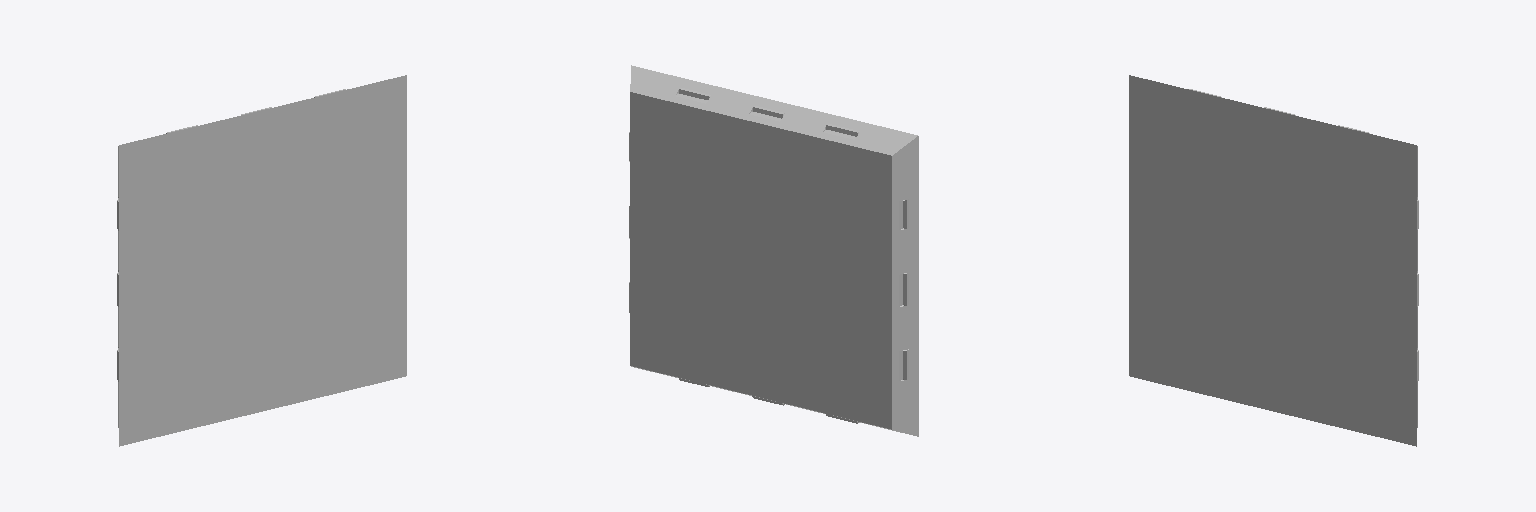
File: dohyo.obj
3 renders of one model, left to right at view 1: azimuth 30°, elevation 25°; view 2: azimuth 150°, elevation 25°; view 3: azimuth 330°, elevation 25°, orthographic.
Parts seen in each view (by area): view 1: Cube; view 2: Cube; view 3: Cube.
Part boxes in pixels (x1,y1,x2,y2): Cube: (117,75,406,446); Cube: (629,65,918,436); Cube: (1129,75,1418,446).
Size of the model in its own units: 37.4 by 37.4 by 3.